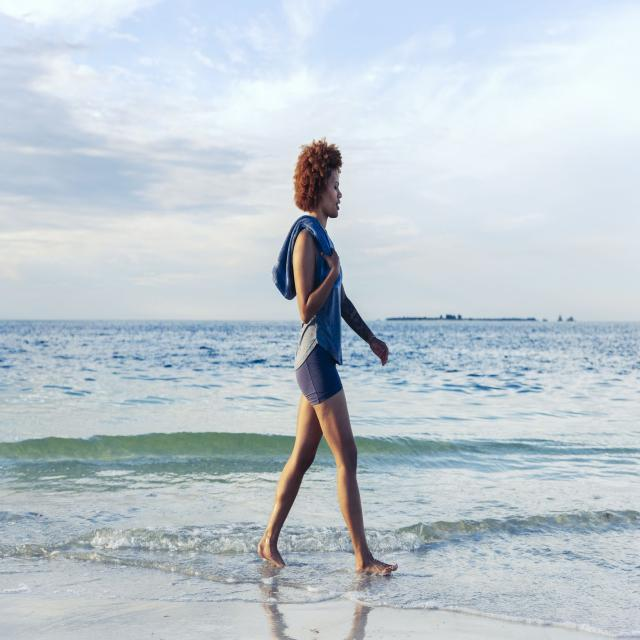Person: (257, 138, 398, 579)
